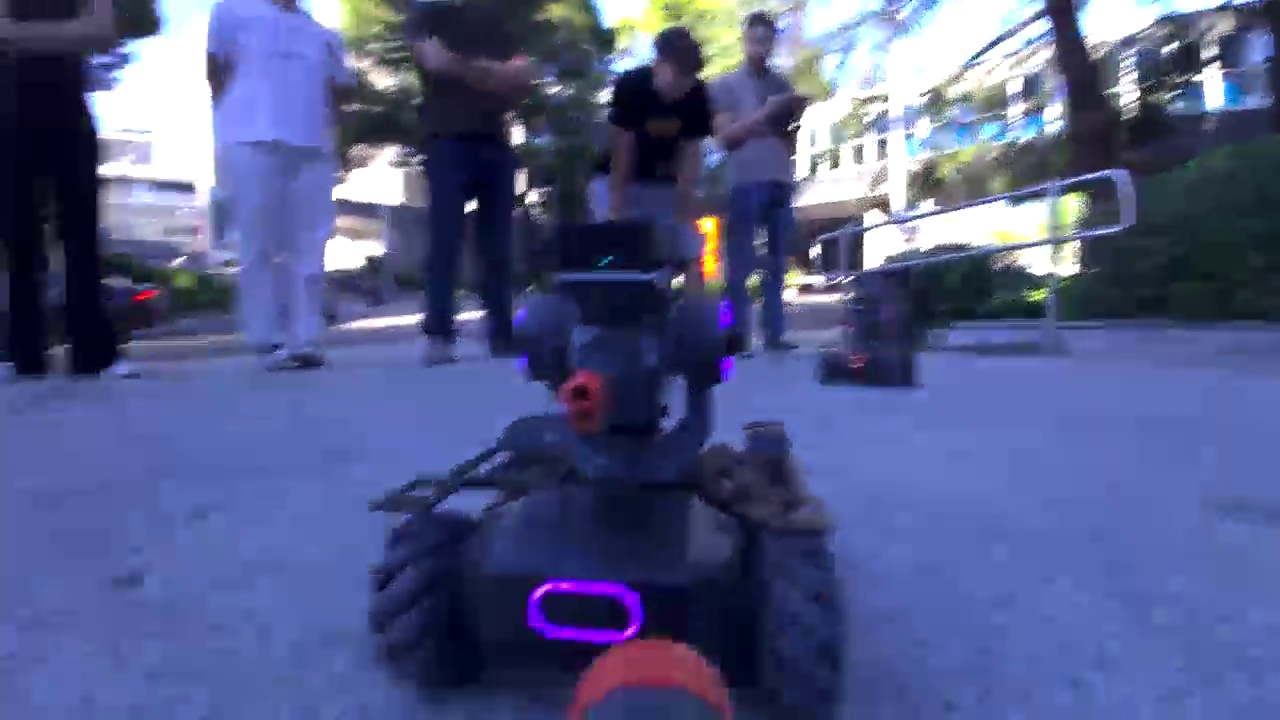robot: (366, 213, 846, 715), (820, 322, 905, 405)
